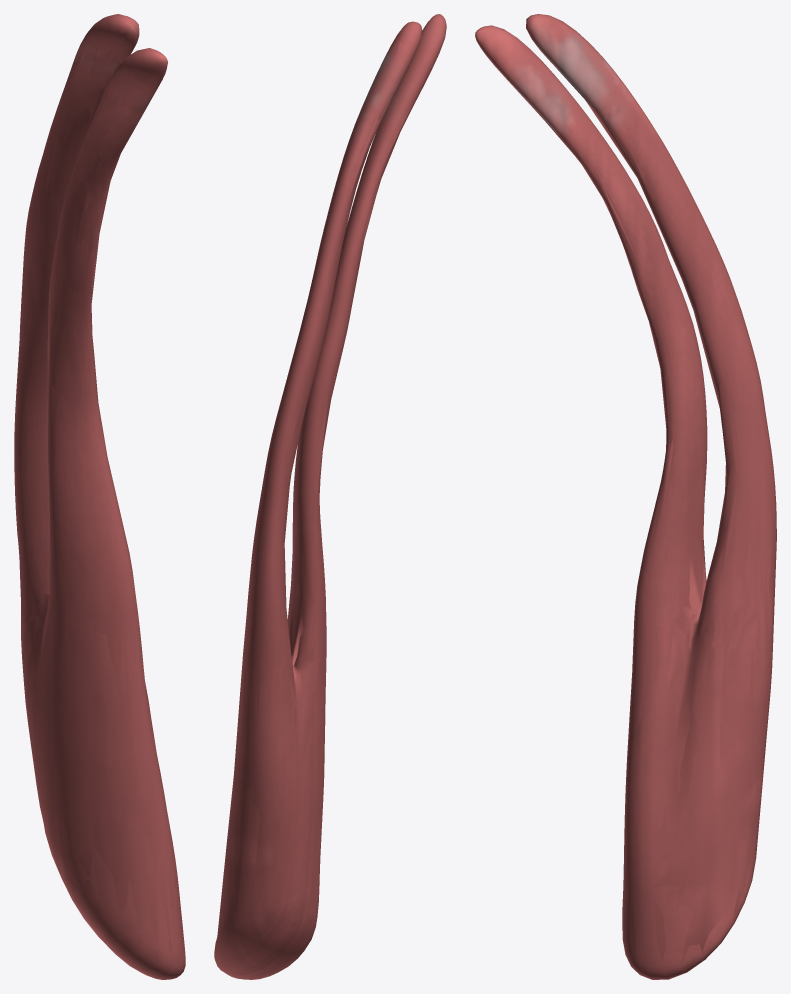
File: Межпоперечная мышца L.fbx
3 renders of one model, left to right at view 1: azimuth 30°, elevation 25°; view 2: azimuth 150°, elevation 25°; view 3: azimuth 270°, elevation 25°, orthographic. The views are drawn at different scales.
Visible parts, largest first — view 1: Межпоперечная мышца L high, Межпоперечная мышца L, Межпоперечная мышца L low; view 2: Межпоперечная мышца L high, Межпоперечная мышца L, Межпоперечная мышца L low; view 3: Межпоперечная мышца L high, Межпоперечная мышца L, Межпоперечная мышца L low.
Part boxes in pixels (<box>): Межпоперечная мышца L high: <box>14,14,185,979</box>; Межпоперечная мышца L: <box>14,14,184,979</box>; Межпоперечная мышца L low: <box>14,42,184,971</box>; Межпоперечная мышца L high: <box>214,14,446,979</box>; Межпоперечная мышца L: <box>214,14,446,979</box>; Межпоперечная мышца L low: <box>215,20,444,962</box>; Межпоперечная мышца L high: <box>475,14,776,978</box>; Межпоперечная мышца L: <box>475,14,776,979</box>; Межпоперечная мышца L low: <box>485,23,776,978</box>.
Bounding box in the file's own units: 0.0928 × 0.6406 × 0.1914.
Materials: 1 (1 with a texture image).
